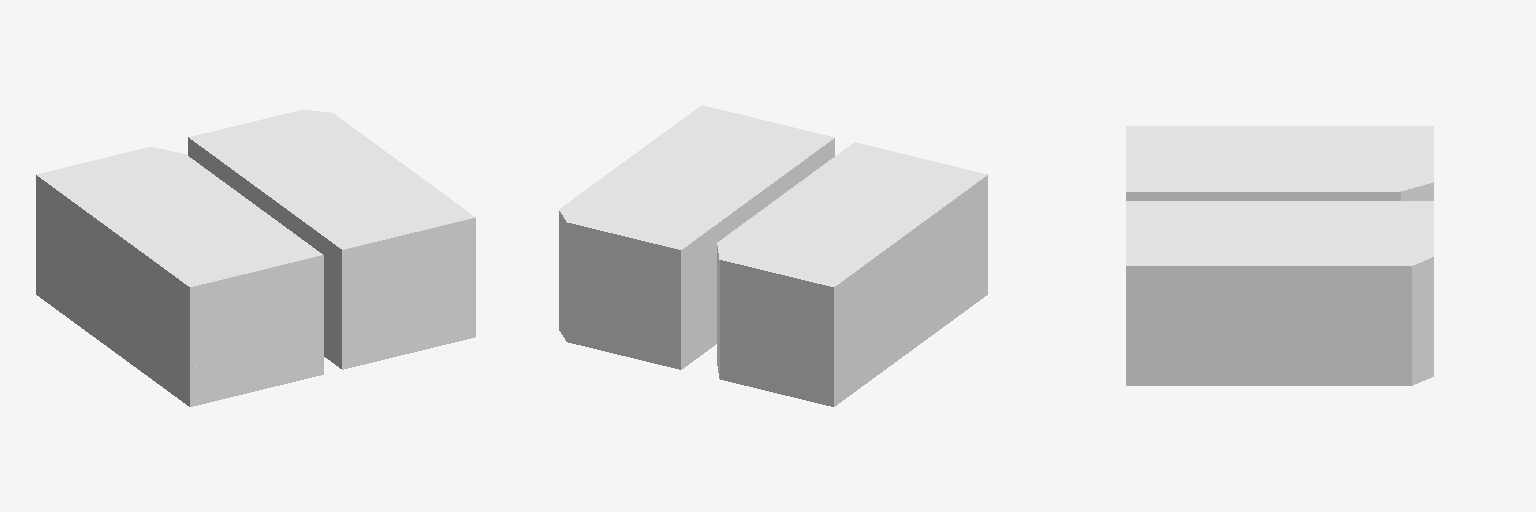
File: light.obj
3 renders of one model, left to right at view 1: azimuth 30°, elevation 25°; view 2: azimuth 150°, elevation 25°; view 3: azimuth 270°, elevation 25°, orthographic.
Parts seen in each view (by area): view 1: BarInterior.001, BarExterior, Stage_BarInterior.003, Speaker_BarInterior.006, Speaker.001_BarInterior.005; view 2: BarInterior.001, BarExterior; view 3: BarExterior, BarInterior.001.
Boxes of the visible parts, x1=… form: BarInterior.001: x1=36, y1=147, x2=323, y2=406; BarExterior: x1=188, y1=110, x2=475, y2=369; Stage_BarInterior.003: x1=209, y1=370, x2=303, y2=402; Speaker_BarInterior.006: x1=179, y1=360, x2=208, y2=406; Speaker.001_BarInterior.005: x1=304, y1=335, x2=323, y2=378; BarInterior.001: x1=717, y1=142, x2=987, y2=406; BarExterior: x1=559, y1=105, x2=834, y2=369; BarExterior: x1=1126, y1=201, x2=1433, y2=385; BarInterior.001: x1=1126, y1=126, x2=1433, y2=200.
Size of the model in its own units: 15 by 6.01 by 14.